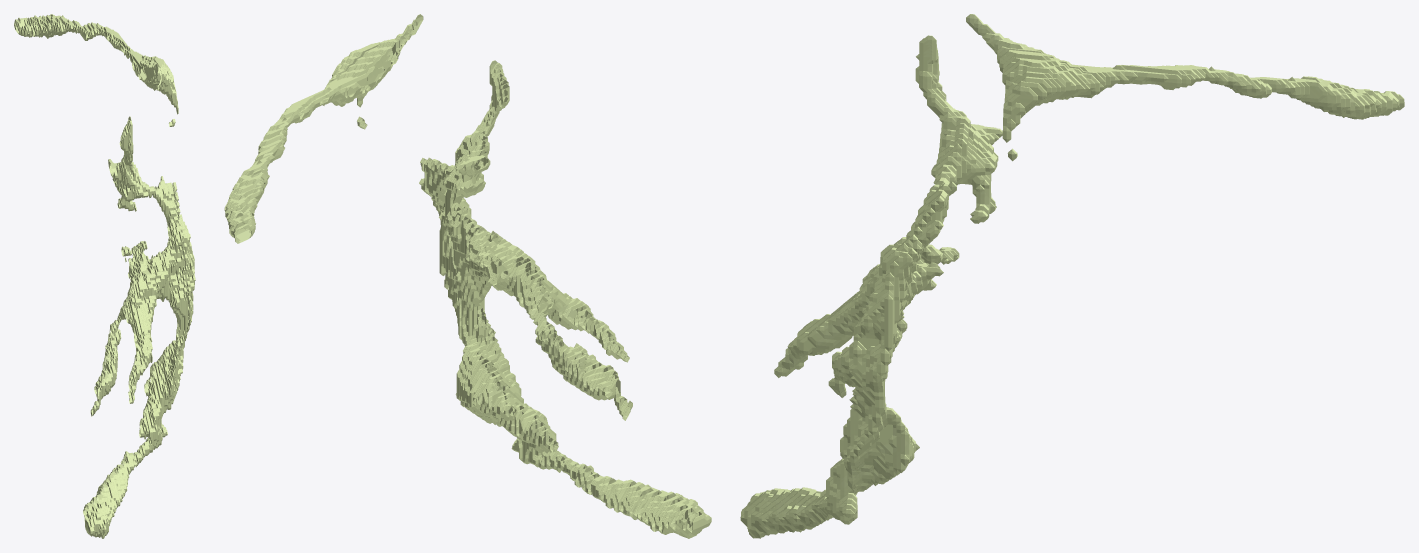
Rendered from SVV_URXR.gltf.
The picture shows the model from 3 angles, left to right: view 1: azimuth 30°, elevation 25°; view 2: azimuth 150°, elevation 25°; view 3: azimuth 270°, elevation 25°; orthographic projection. The views are drawn at different scales.
Visible parts, largest first — view 1: URXR; view 2: URXR; view 3: URXR.
Boxes of the visible parts, box(x1,y1,x2,y2) form: URXR: box(14, 14, 195, 538); URXR: box(224, 14, 711, 538); URXR: box(740, 14, 1404, 538).
Size of the model in its own units: 46545 by 101575 by 98846.
